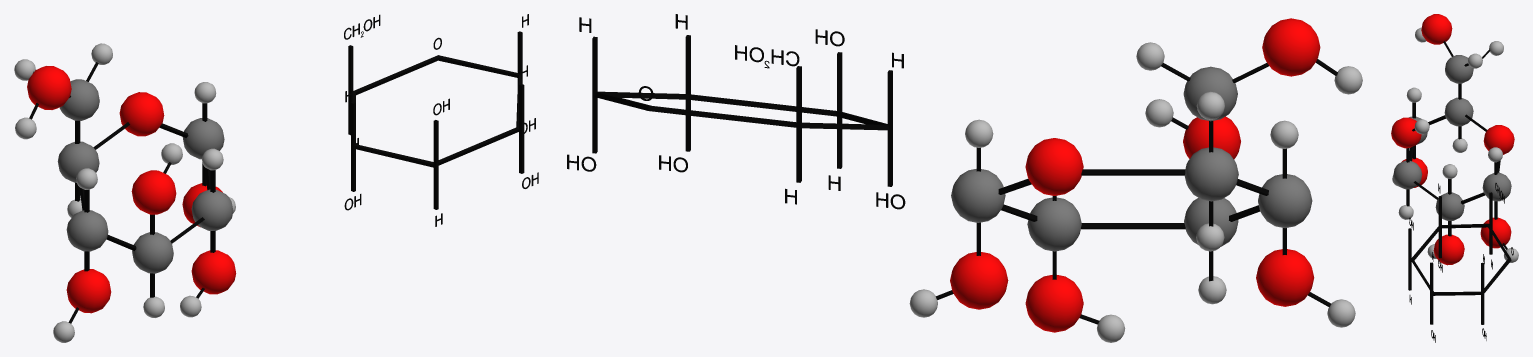
The model's file is glucose.glb.
3 views of the same model, side by side, from view 1: azimuth 30°, elevation 25°; view 2: azimuth 150°, elevation 25°; view 3: azimuth 270°, elevation 25° (orthographic). The views are drawn at different scales.
Parts seen in each view (by area): view 1: Box003_red_0, Box009_grey_0, Object003_black_0, Box023_grey2_0; view 2: Box003_red_0, Object003_black_0, Box009_grey_0, Box023_grey2_0; view 3: Box003_red_0, Object003_black_0, Box009_grey_0, Box023_grey2_0.
Boxes of the visible parts, <box> form: Box003_red_0: <box>27,66,236,313</box>; Box009_grey_0: <box>57,79,233,273</box>; Object003_black_0: <box>29,14,538,323</box>; Box023_grey2_0: <box>14,43,235,342</box>; Box003_red_0: <box>950,18,1320,332</box>; Object003_black_0: <box>567,14,1337,324</box>; Box009_grey_0: <box>951,66,1312,251</box>; Box023_grey2_0: <box>909,42,1362,342</box>; Box003_red_0: <box>1391,14,1514,265</box>; Object003_black_0: <box>1406,41,1513,342</box>; Box009_grey_0: <box>1393,55,1511,220</box>; Box023_grey2_0: <box>1392,27,1518,262</box>.
Bounding box in the file's own units: 0.2957 × 0.141 × 0.0834.
